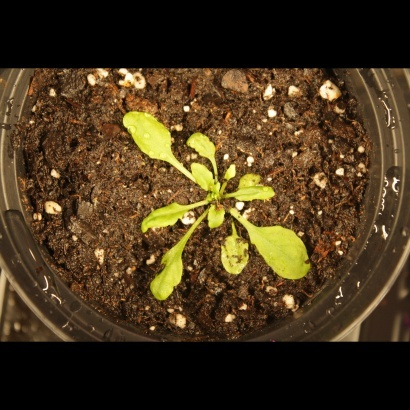leaf: (246, 217, 317, 284), (115, 104, 180, 170), (146, 232, 188, 308), (137, 193, 189, 237), (216, 230, 256, 281), (186, 124, 220, 163), (236, 179, 276, 208), (188, 161, 218, 196), (231, 168, 268, 191), (204, 201, 229, 231), (221, 159, 244, 182)
